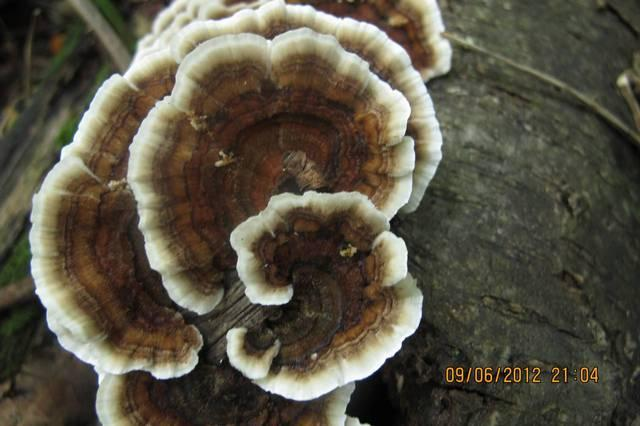Non-edible Mushroom: (27, 0, 446, 424), (224, 188, 424, 403)
